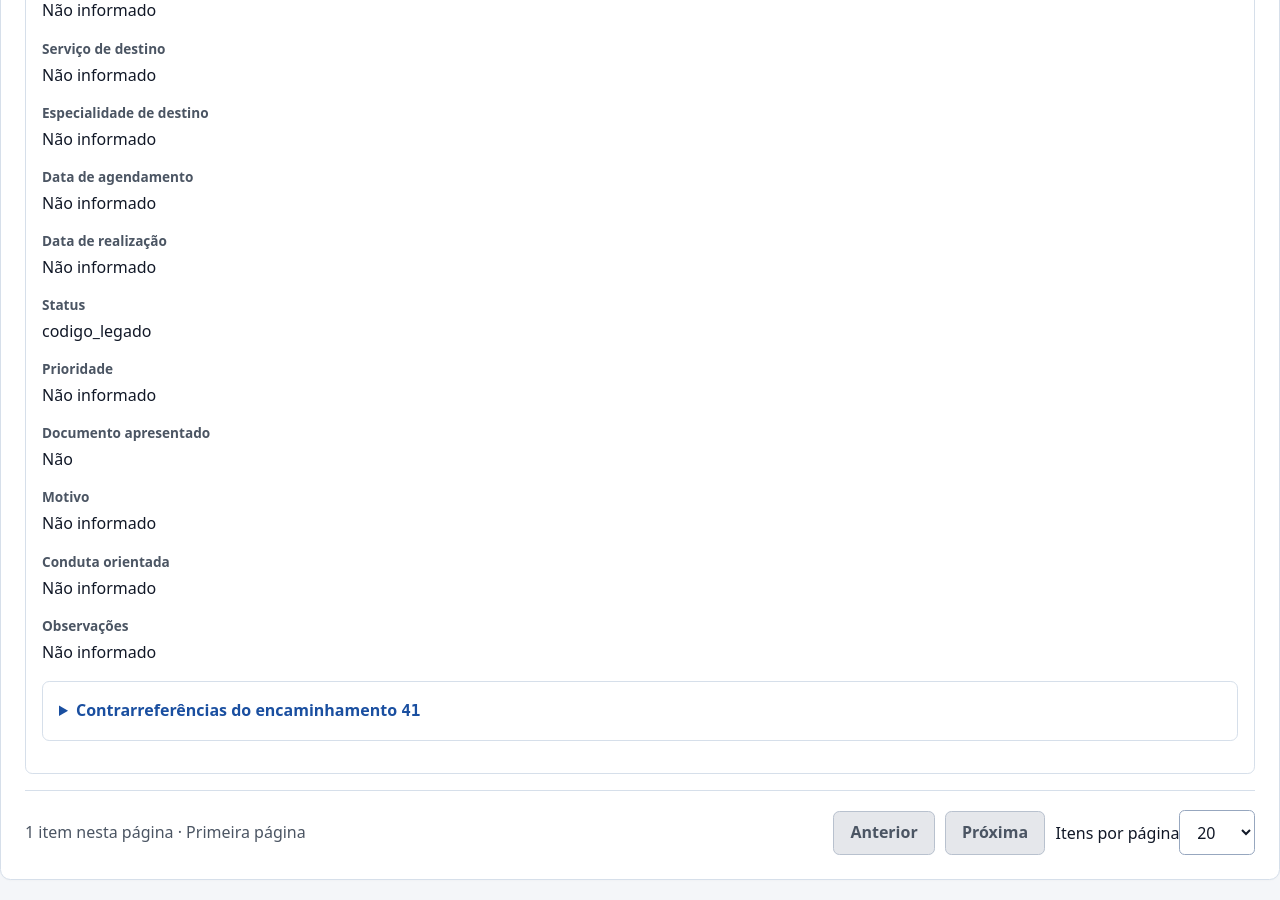
Test: ficha por recurso › consulta contrarreferências somente após abrir o encaminhamento e mantém o vínculo no caminho
(page scrolled)
Check: the text "codigo_legado" is shown, box [42,320,152,342]
Step 1. Click the heading "Contrarreferências do encaminhamento 41" → (248, 710), box [76,699,420,721]
(page scrolled)
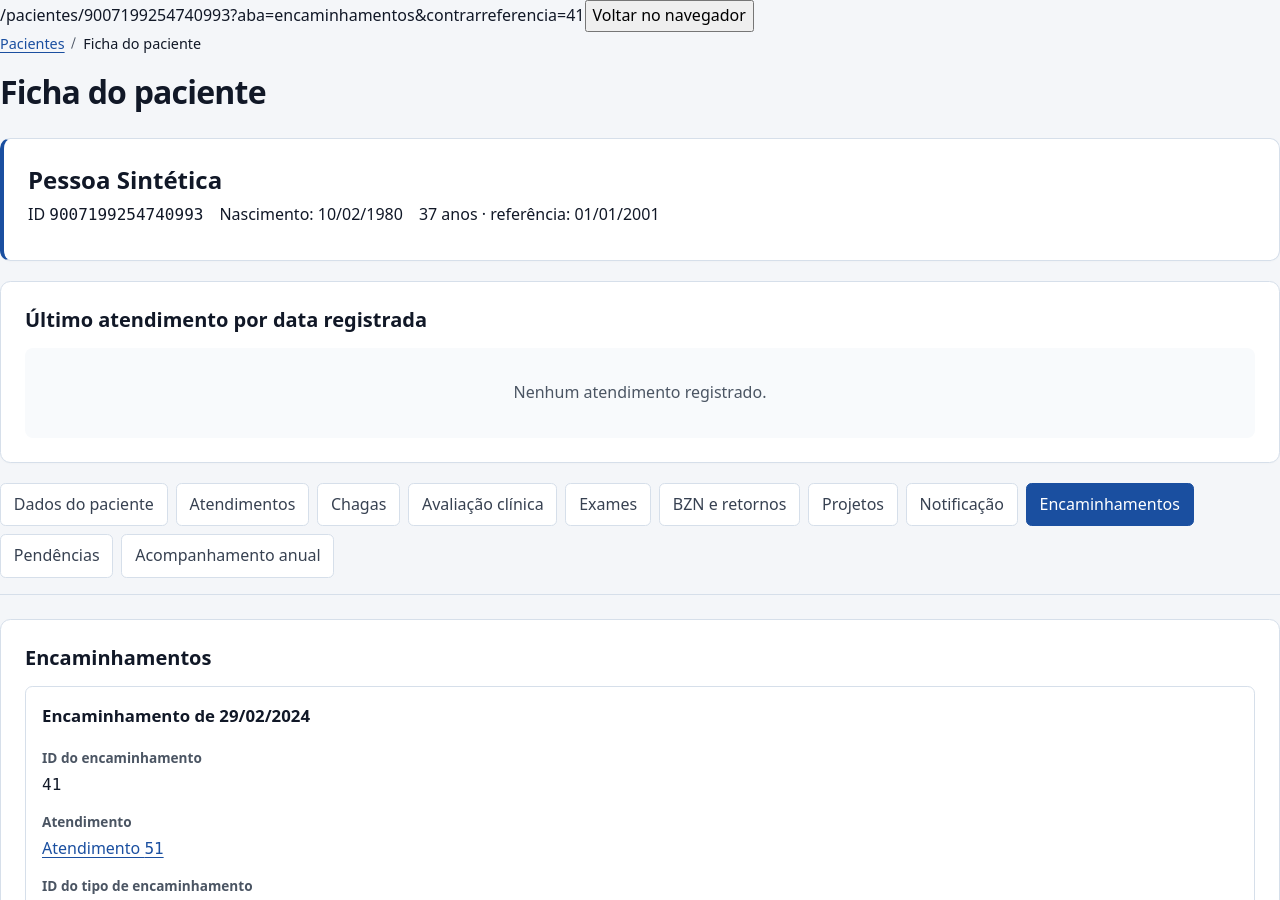
Check: the text with test id "location" shows "contrarreferencia=41", box [230,4,584,26]
